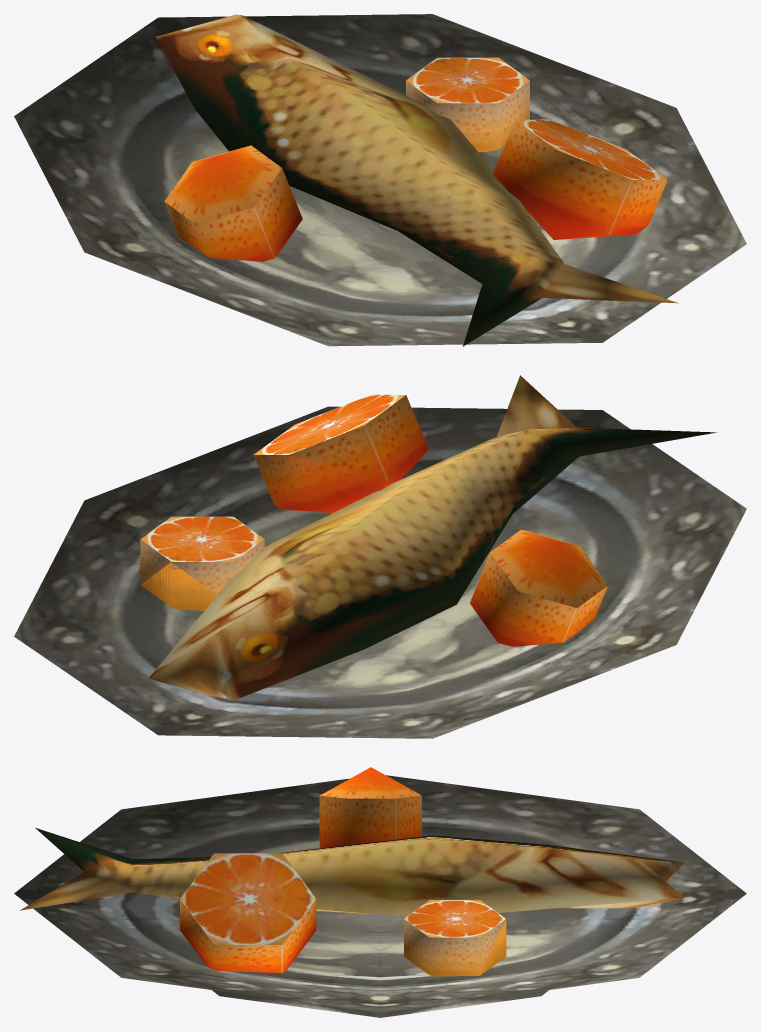
Rendered from fishplatter01.obj.
3 views of the same model, one above another, from view 1: azimuth 30°, elevation 25°; view 2: azimuth 150°, elevation 25°; view 3: azimuth 270°, elevation 25° (orthographic). The views are drawn at different scales.
Parts seen in each view (by area): view 1: fishplatter01.m2; view 2: fishplatter01.m2; view 3: fishplatter01.m2.
Part boxes in pixels (left/top/right/bottom): fishplatter01.m2: left=14, top=14, right=746, bottom=346; fishplatter01.m2: left=14, top=375, right=746, bottom=738; fishplatter01.m2: left=14, top=767, right=746, bottom=1017.
Size of the model in its own units: 1.5 by 0.3548 by 1.95.
1 material, 1 textured.
